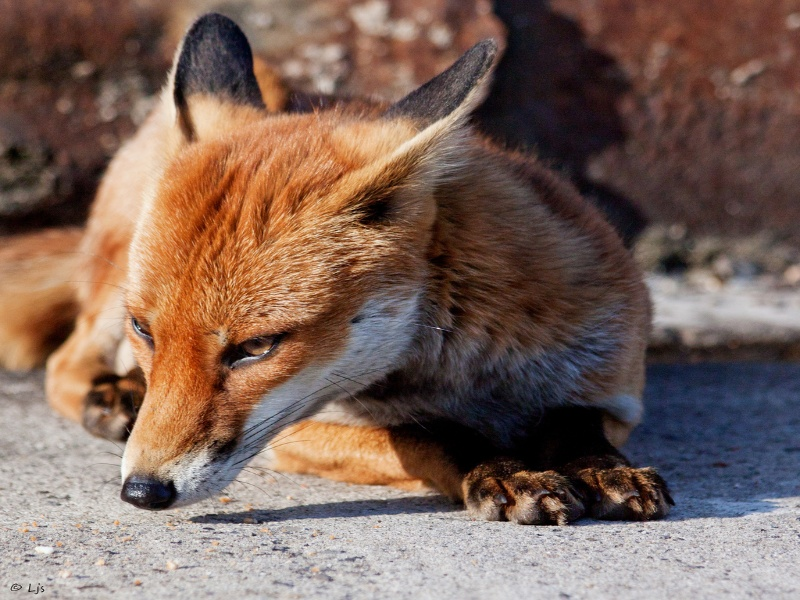fox: (6, 7, 684, 531)
